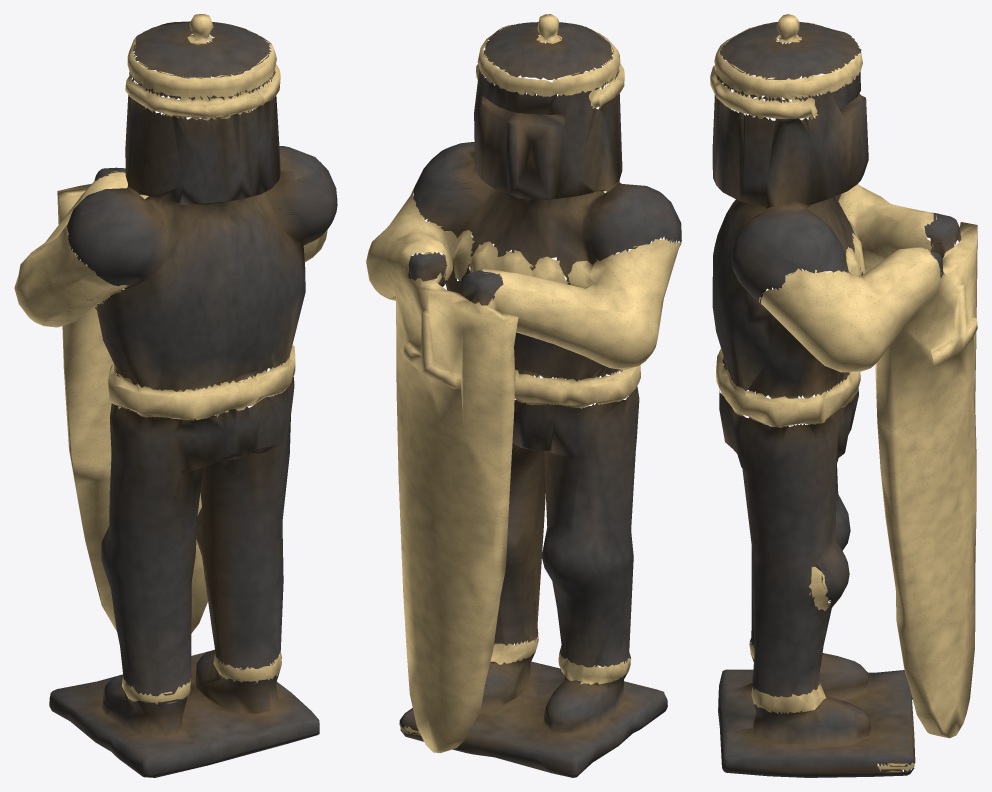
Rendered from knight-black.glb.
The picture shows the model from 3 angles, left to right: view 1: azimuth 30°, elevation 25°; view 2: azimuth 150°, elevation 25°; view 3: azimuth 270°, elevation 25°; orthographic projection. The views are drawn at different scales.
Visible parts, largest first — view 1: Argent Reliquary – Black Knight; view 2: Argent Reliquary – Black Knight; view 3: Argent Reliquary – Black Knight.
Part boxes in pixels (<box>): Argent Reliquary – Black Knight: <box>14,14,337,777</box>; Argent Reliquary – Black Knight: <box>366,14,681,777</box>; Argent Reliquary – Black Knight: <box>710,14,977,777</box>.
Size of the model in its own units: 0.5506 by 1.29 by 0.4335.
2 materials, 2 textured.
